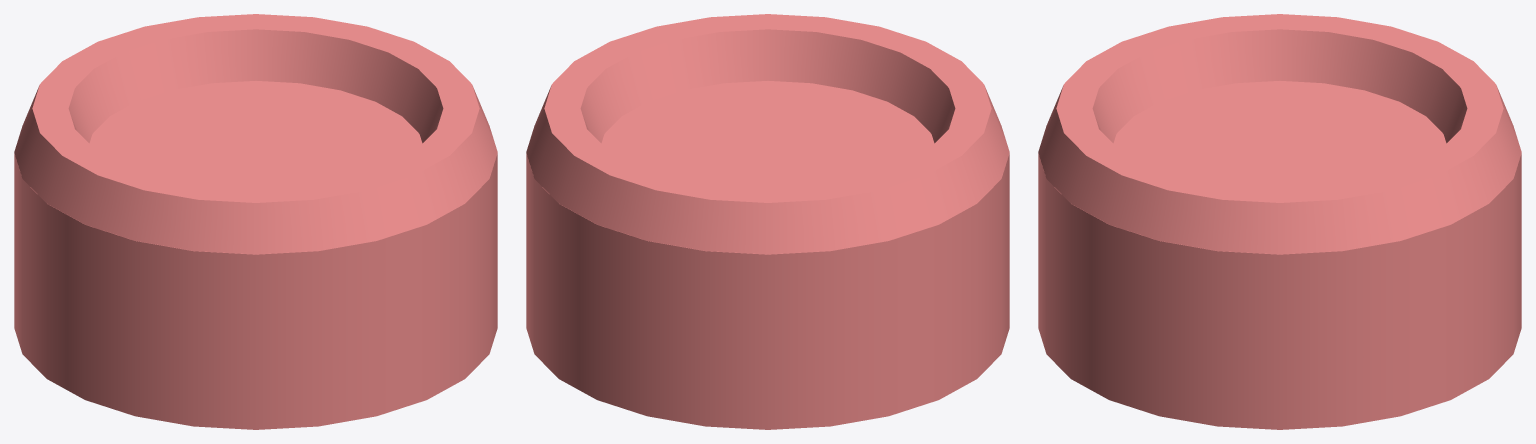
Rendered from Light_QianDeng1_1X1_off.FBX.
The picture shows the model from 3 angles, left to right: view 1: azimuth 30°, elevation 25°; view 2: azimuth 150°, elevation 25°; view 3: azimuth 270°, elevation 25°; orthographic projection.
Visible parts, largest first — view 1: Box001; view 2: Box001; view 3: Box001.
Boxes of the visible parts, <box> form: Box001: <box>14,14,497,429</box>; Box001: <box>526,14,1009,429</box>; Box001: <box>1038,14,1521,429</box>.
Size of the model in its own units: 1 by 0.5003 by 1.
